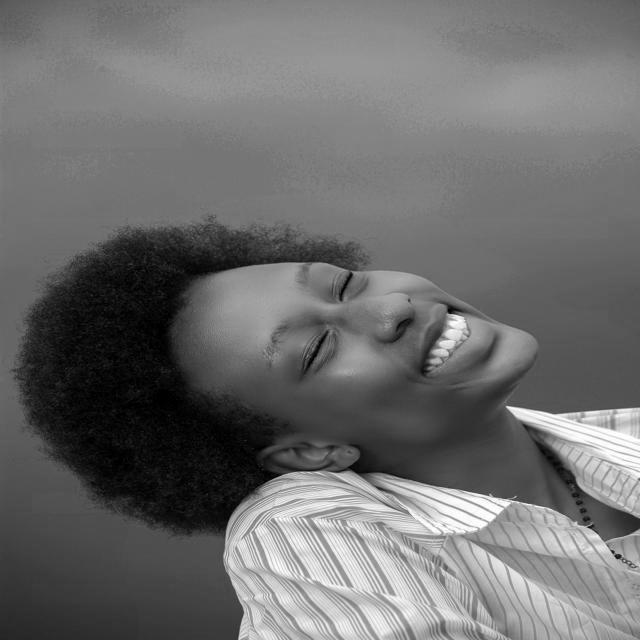Happiness: (171, 259, 539, 447)
